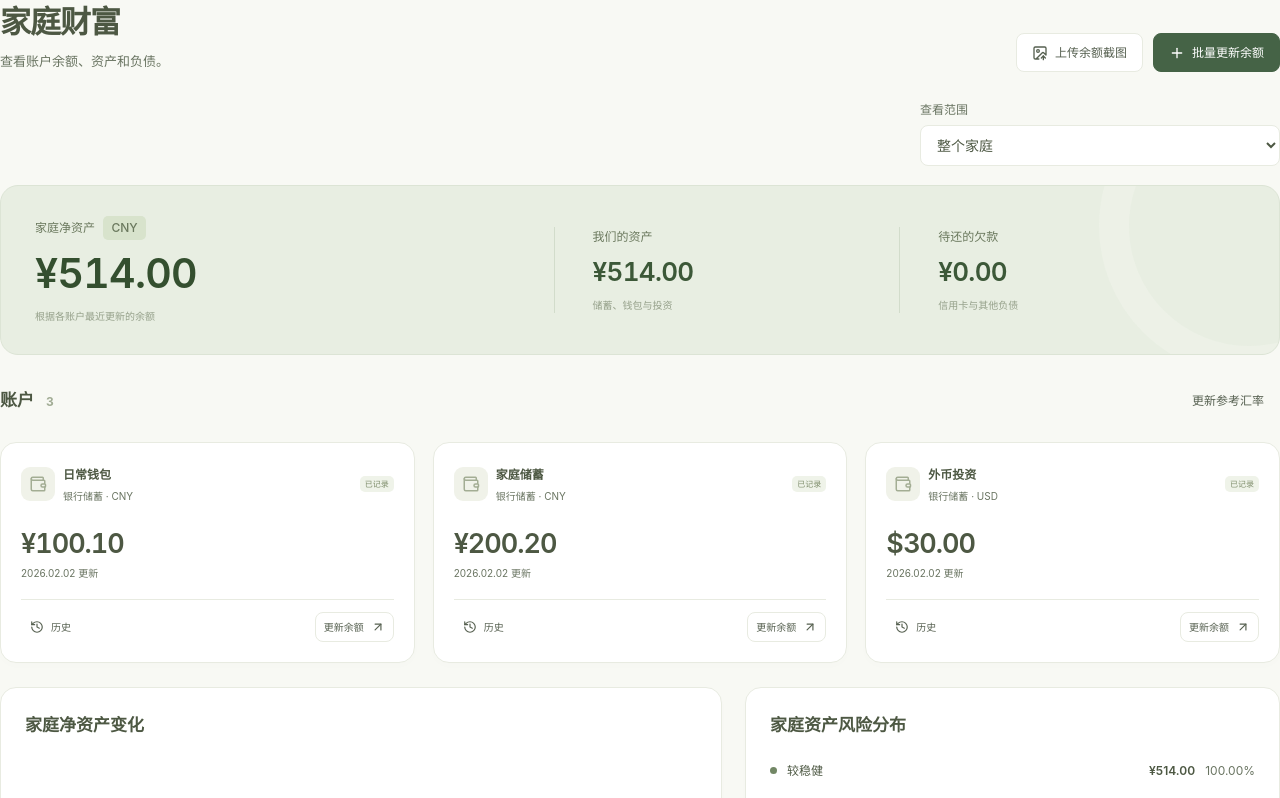
Test: shows an empty group without claiming missing balances, family setup or verified zero wealth
Expected: the text "家庭净资产" is shown, [35,220,95,235]
Select "原成员（已停用）" in the dropdown at (1100, 146), box [920,125,1279,166]
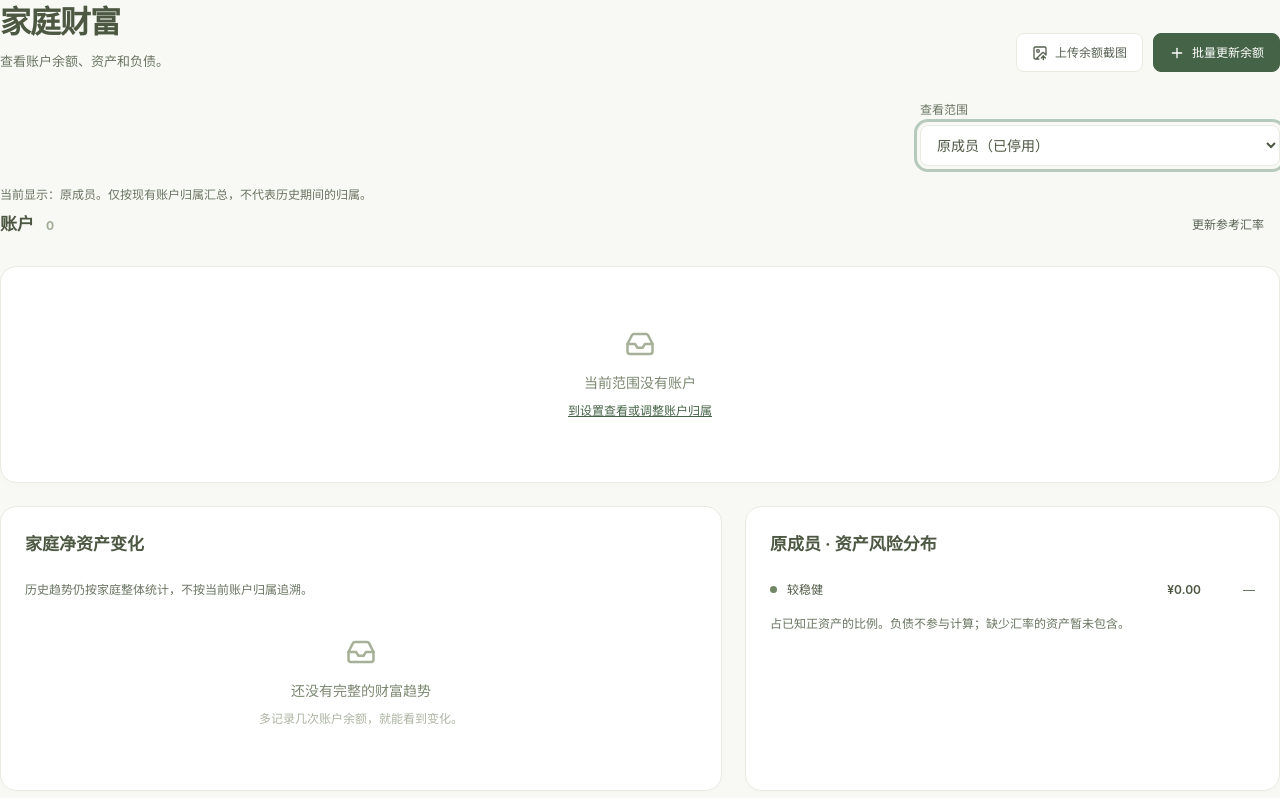
Expected: the heading "当前范围没有账户" is shown, [584,374,696,391]
Expected: the element with class "wealth-summary" is gone
Expected: the text "100.00%" is gone
